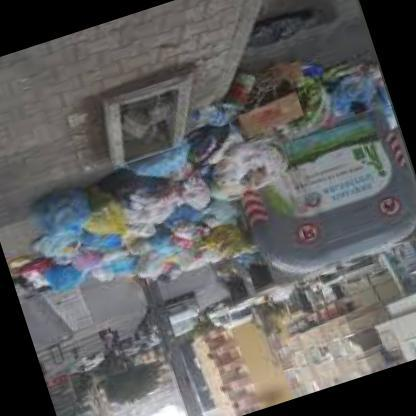Garbage: (2, 142, 235, 300), (90, 152, 250, 286), (205, 68, 303, 193), (278, 42, 392, 136), (237, 0, 328, 55)
